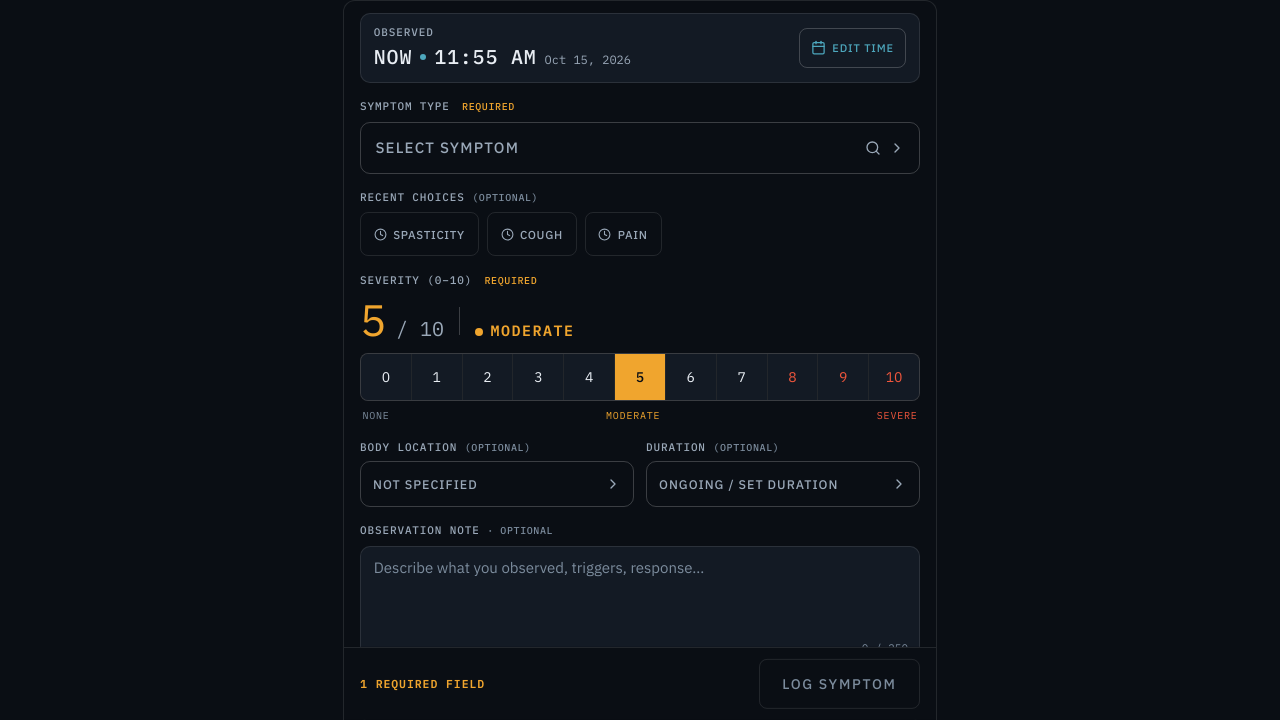
Test: SymptomLogForm › gates logging on the required symptom type
The image size is (1280, 720).
Expected: the text "1 required field" is shown, [360,675,485,692]
Expected: the button "Log symptom" is disabled, [759,659,920,709]
What coordinates should you click on to do the following:
click the button "Select symptom"
I would click on:
 (447, 148)
Its box is [360,122,920,174].
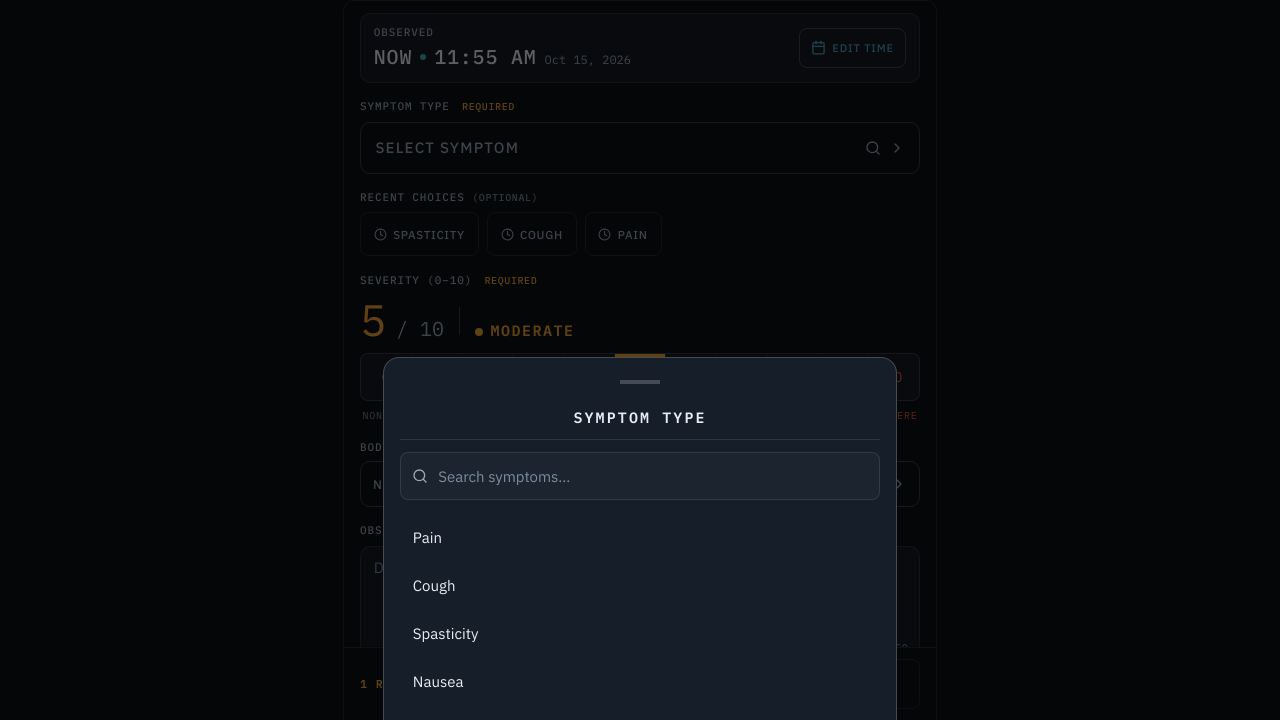
What coordinates should you click on to do the following:
click the button "Pain"
I would click on:
 (427, 537)
Its box is [400,514,880,560].
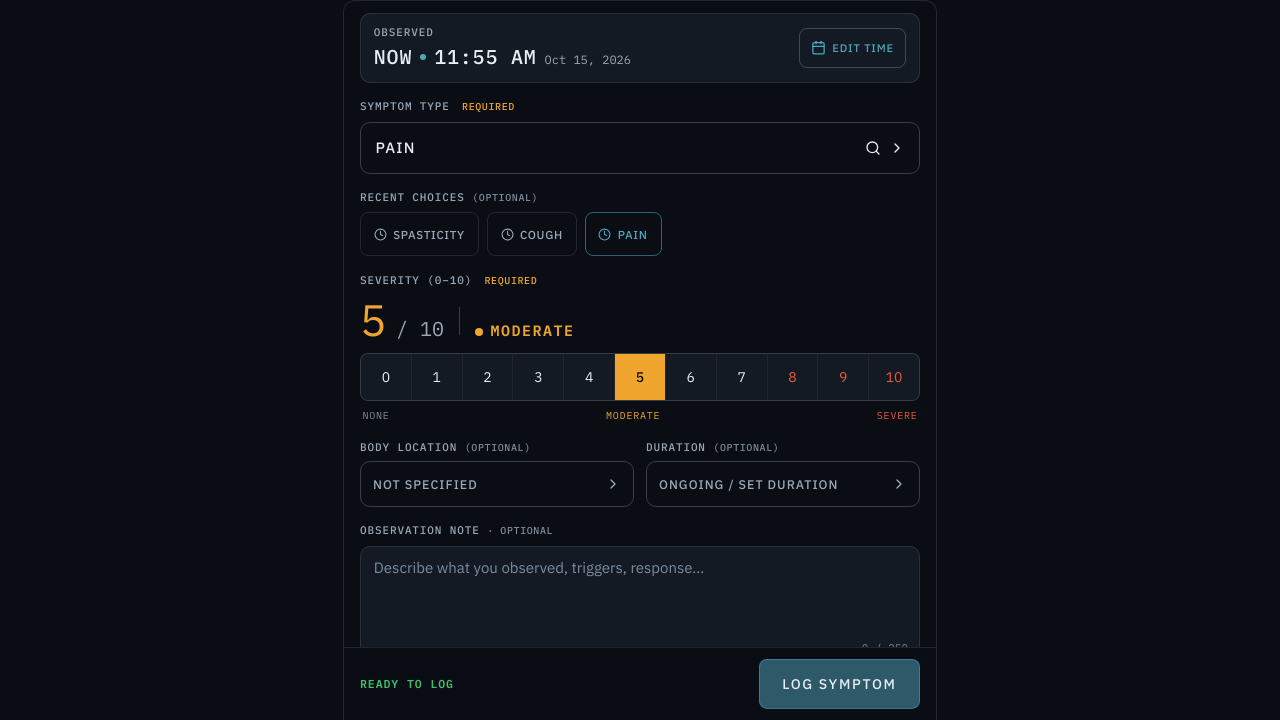
Result: the text "Ready to log" is shown at [360,675,454,692]
Result: the button "Log symptom" is enabled at [759,659,920,709]
